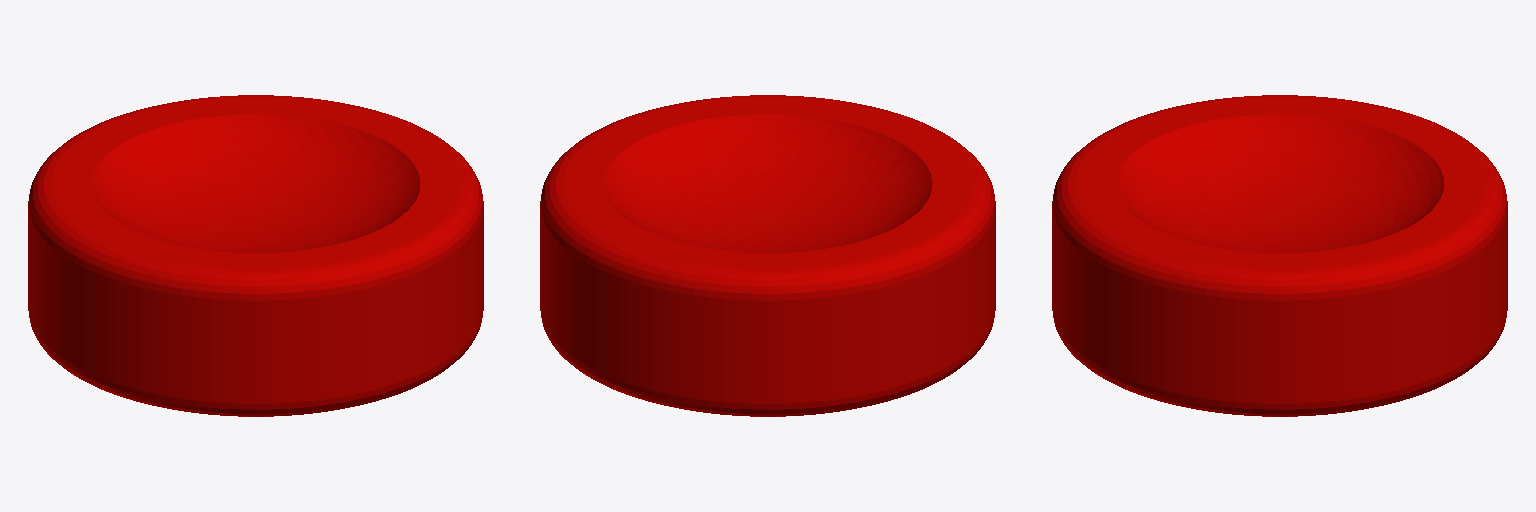
The model's file is connect4red.obj.
3 views of the same model, side by side, from view 1: azimuth 30°, elevation 25°; view 2: azimuth 150°, elevation 25°; view 3: azimuth 270°, elevation 25° (orthographic).
Visible parts, largest first — view 1: 4gewinnt.003; view 2: 4gewinnt.003; view 3: 4gewinnt.003.
Part boxes in pixels (x1,y1,x2,y2): 4gewinnt.003: (28, 95, 483, 416); 4gewinnt.003: (540, 95, 995, 416); 4gewinnt.003: (1052, 95, 1507, 416).
Size of the model in its own units: 0.69 by 0.2415 by 0.69.